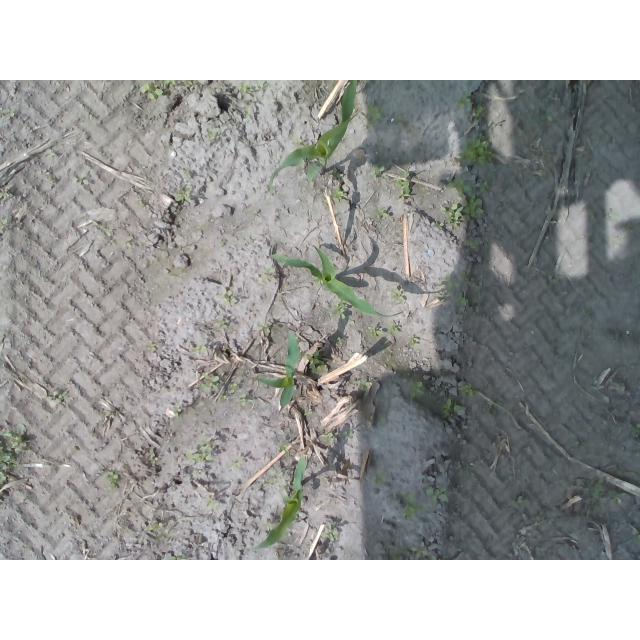Maize: (267, 80, 357, 192), (273, 243, 383, 318), (253, 456, 307, 549), (257, 331, 299, 409)
Weeds: (446, 177, 491, 225), (0, 430, 28, 483), (462, 137, 495, 166), (448, 272, 472, 305), (186, 436, 210, 465), (228, 383, 253, 405), (439, 398, 463, 418), (395, 173, 412, 200), (402, 495, 422, 517), (366, 104, 384, 128), (423, 485, 448, 502), (139, 83, 164, 100), (309, 351, 324, 374), (104, 470, 121, 489), (409, 382, 425, 401), (202, 374, 219, 390), (457, 384, 475, 399), (320, 432, 337, 446), (47, 390, 65, 403), (332, 187, 347, 201), (224, 290, 237, 306), (415, 547, 430, 560), (474, 105, 487, 120), (465, 238, 482, 249), (540, 110, 555, 122), (458, 96, 470, 111), (335, 304, 346, 320), (324, 530, 337, 542), (388, 323, 400, 336), (376, 206, 389, 218), (392, 287, 403, 301), (216, 319, 230, 330), (149, 451, 159, 466), (257, 323, 272, 333), (240, 83, 252, 94), (392, 550, 405, 560), (178, 189, 191, 199), (146, 340, 157, 351), (264, 264, 276, 274), (369, 329, 383, 337), (0, 191, 10, 202), (373, 163, 385, 172), (409, 337, 419, 347), (174, 404, 182, 416), (279, 445, 289, 454), (162, 80, 177, 86), (170, 556, 177, 561)
